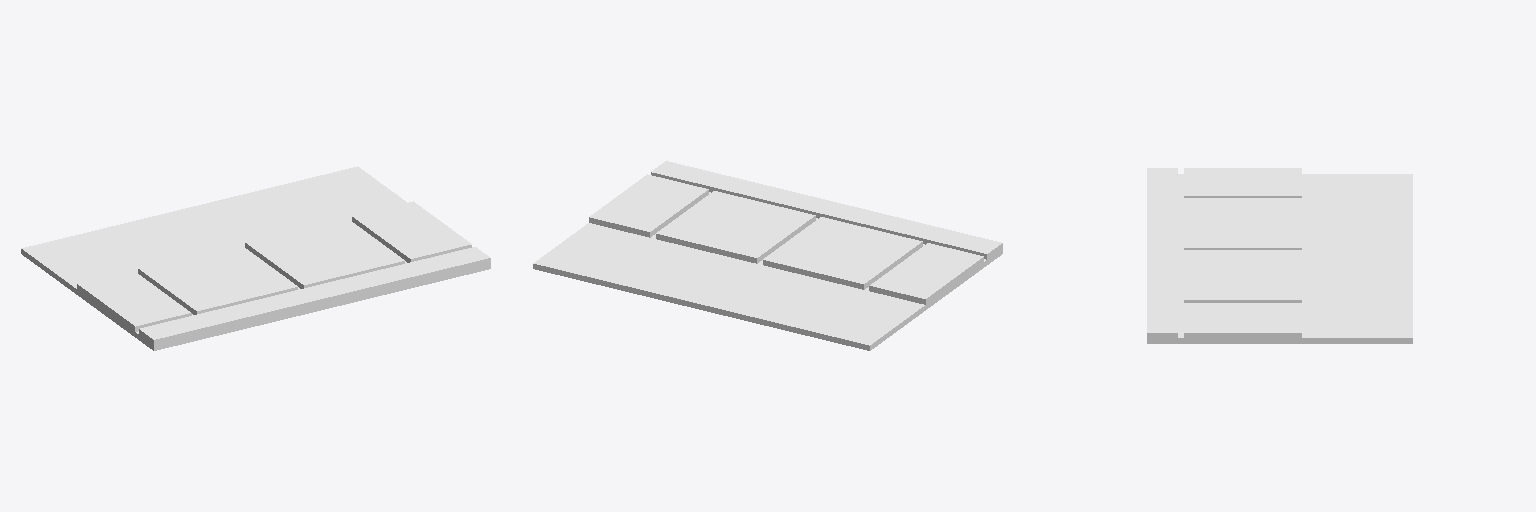
Rendered from mailbox_sidewalk.obj.
3 renders of one model, left to right at view 1: azimuth 30°, elevation 25°; view 2: azimuth 150°, elevation 25°; view 3: azimuth 270°, elevation 25°, orthographic.
Size of the model in its own units: 126 by 4 by 86.